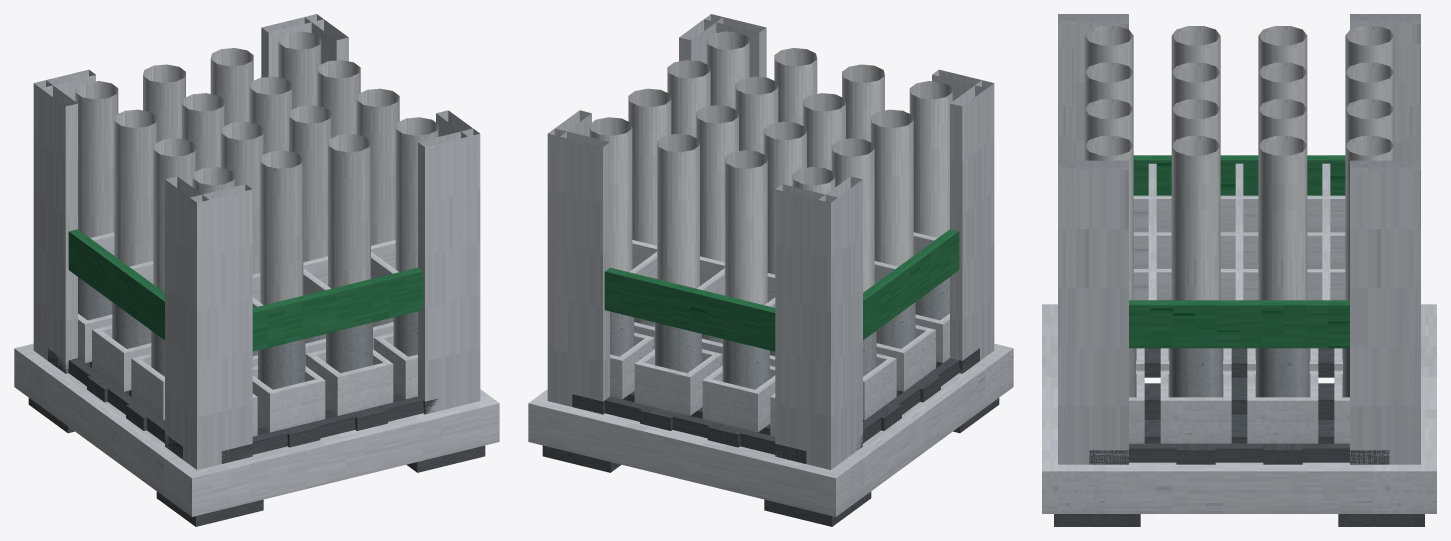
The model's file is tvs_loaded_bottom.obj.
3 views of the same model, side by side, from view 1: azimuth 30°, elevation 25°; view 2: azimuth 150°, elevation 25°; view 3: azimuth 270°, elevation 25° (orthographic). The views are drawn at different scales.
Size of the model in its own units: 1 by 1 by 1.
